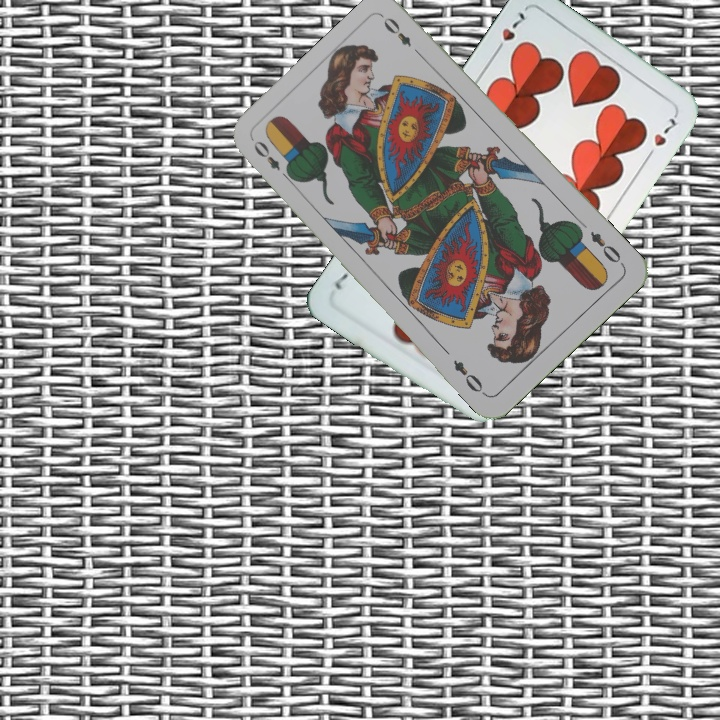EO: (249, 136, 295, 184), (586, 227, 627, 268)
H7: (489, 5, 531, 58)
